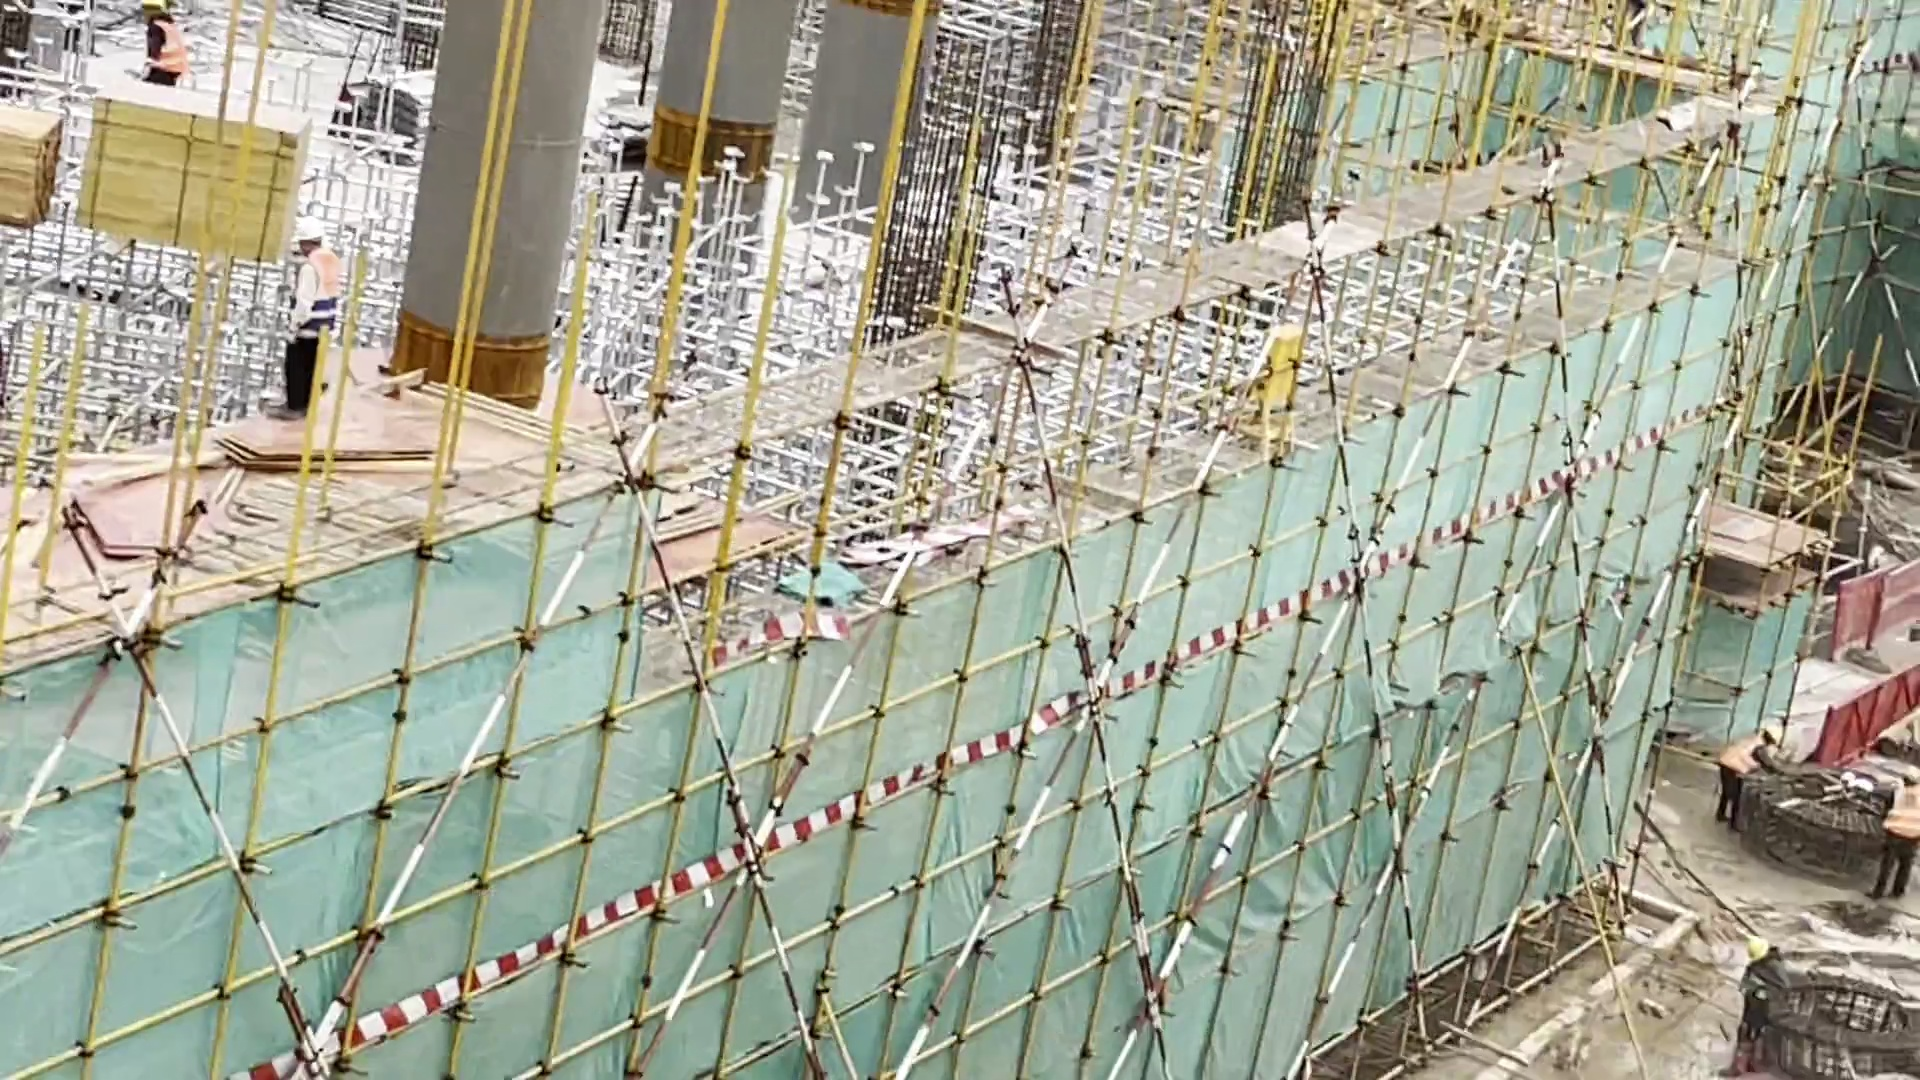ebox: (1254, 303, 1297, 421)
fence: (1812, 551, 1919, 643), (1836, 661, 1920, 746)
helmet: (288, 208, 336, 252), (1749, 716, 1801, 754), (1891, 750, 1920, 777)
person: (277, 211, 345, 411), (1712, 703, 1793, 832), (1860, 724, 1920, 869), (127, 1, 193, 89)
vest: (285, 246, 346, 353), (135, 16, 184, 79), (1880, 774, 1920, 843), (1722, 741, 1770, 775)
wood: (103, 84, 299, 256), (1, 104, 77, 237)
